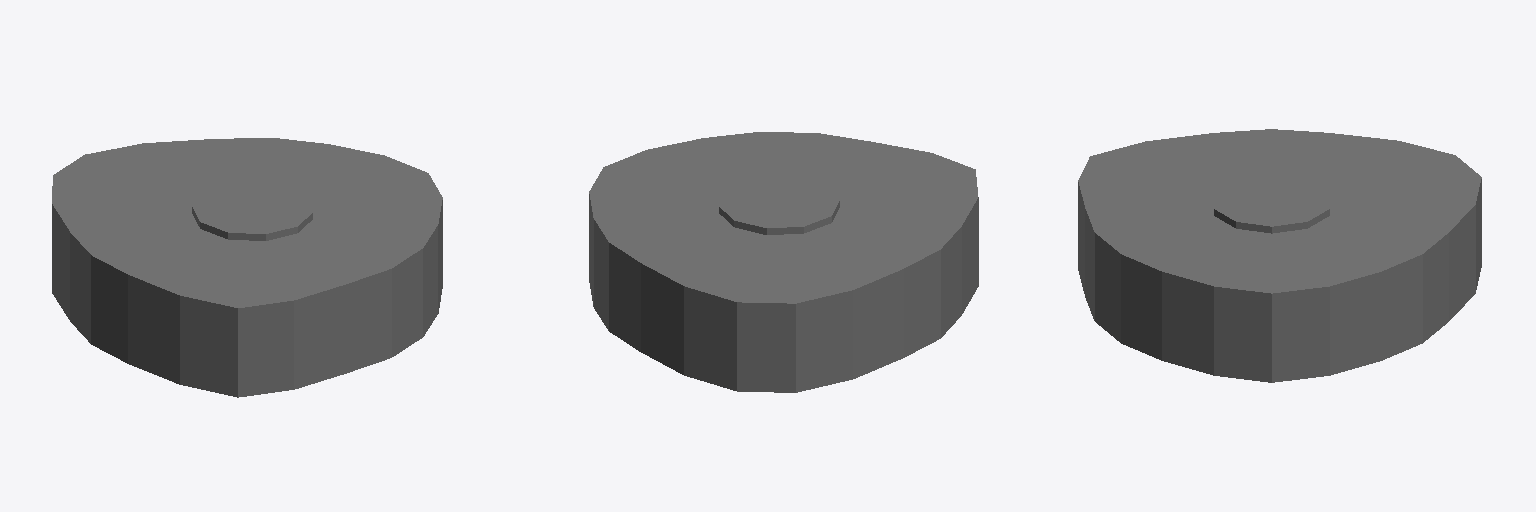
The model's file is RawMeat.obj.
The picture shows the model from 3 angles: view 1: azimuth 30°, elevation 25°; view 2: azimuth 150°, elevation 25°; view 3: azimuth 270°, elevation 25°; orthographic projection.
Parts seen in each view (by area): view 1: Raw_Meat; view 2: Raw_Meat; view 3: Raw_Meat.
Boxes of the visible parts, x1=… form: Raw_Meat: x1=52, y1=138, x2=442, y2=397; Raw_Meat: x1=589, y1=132, x2=978, y2=392; Raw_Meat: x1=1078, y1=129, x2=1481, y2=382.
Bounding box in the file's own units: 9.63 × 2.81 × 9.99.